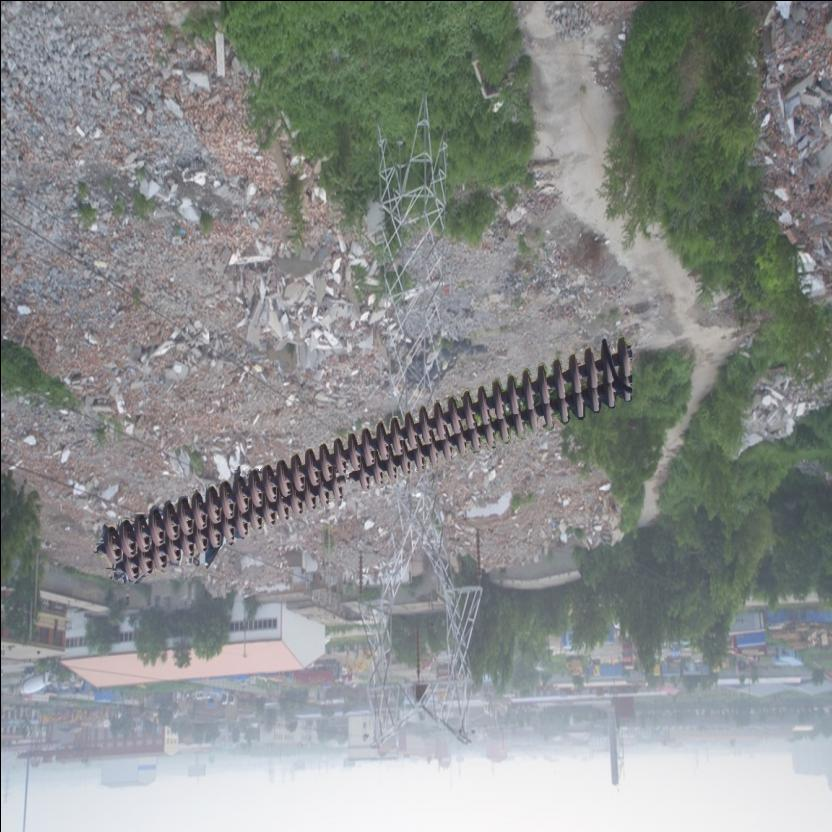defect: (330, 464, 372, 504)
